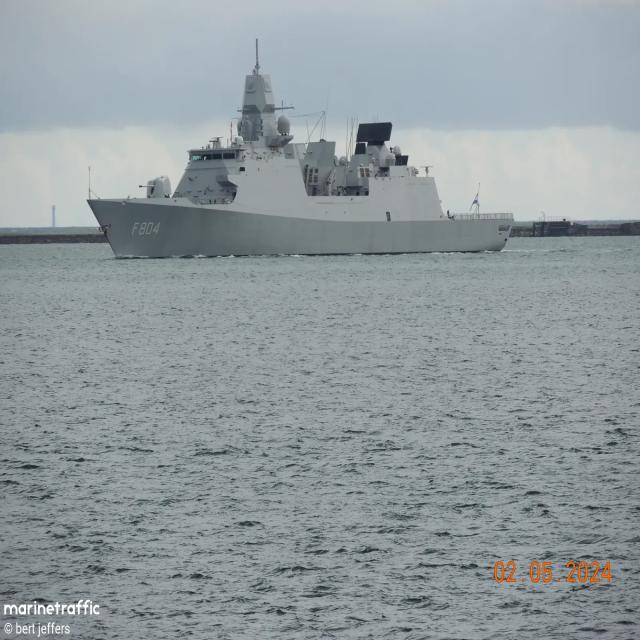Military: (87, 55, 514, 258)
